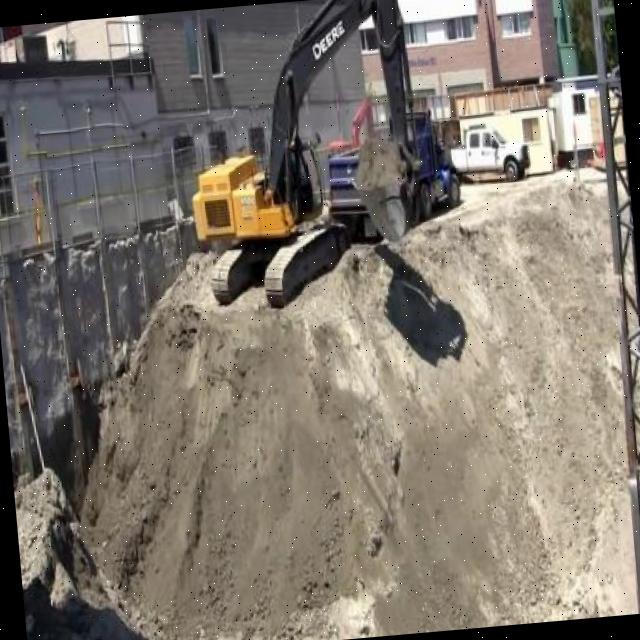Dump Truck: (324, 103, 464, 246)
Excavator: (170, 0, 429, 311)
